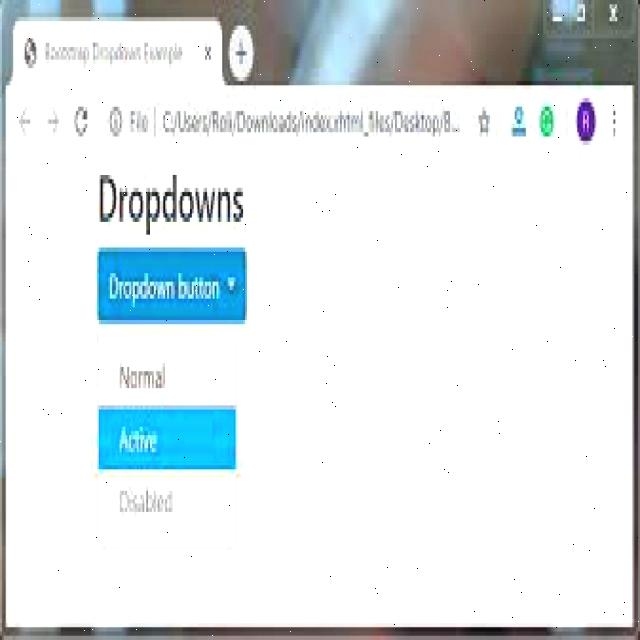button: (470, 98, 500, 143), (66, 101, 94, 140), (507, 97, 528, 140), (11, 100, 34, 139), (42, 102, 63, 140), (536, 102, 557, 140), (610, 98, 625, 143)
dropdownMenu: (98, 249, 246, 556)
input: (110, 95, 463, 148)
menu: (569, 96, 605, 144)
menuItem: (111, 480, 181, 518), (112, 354, 174, 394), (112, 423, 166, 462)
tabControl: (11, 17, 222, 80), (225, 19, 266, 83)
